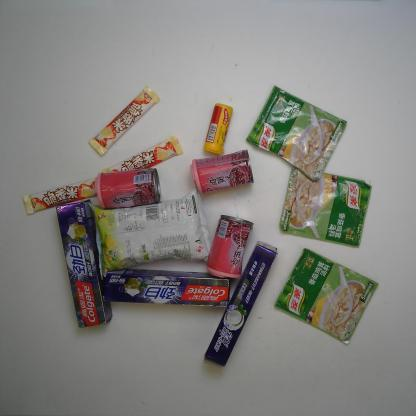Candy: (203, 102, 234, 156)
Canned Food: (206, 213, 254, 280), (190, 148, 254, 195), (94, 167, 161, 210)
Chocolate: (89, 85, 160, 156), (100, 135, 184, 174), (22, 176, 98, 216)
Personal Hygiene: (201, 241, 278, 368), (55, 198, 114, 328), (102, 268, 231, 308)
Puffed Food: (86, 186, 211, 274)
Seasoner: (274, 248, 378, 345), (247, 83, 348, 182), (277, 166, 374, 249)
